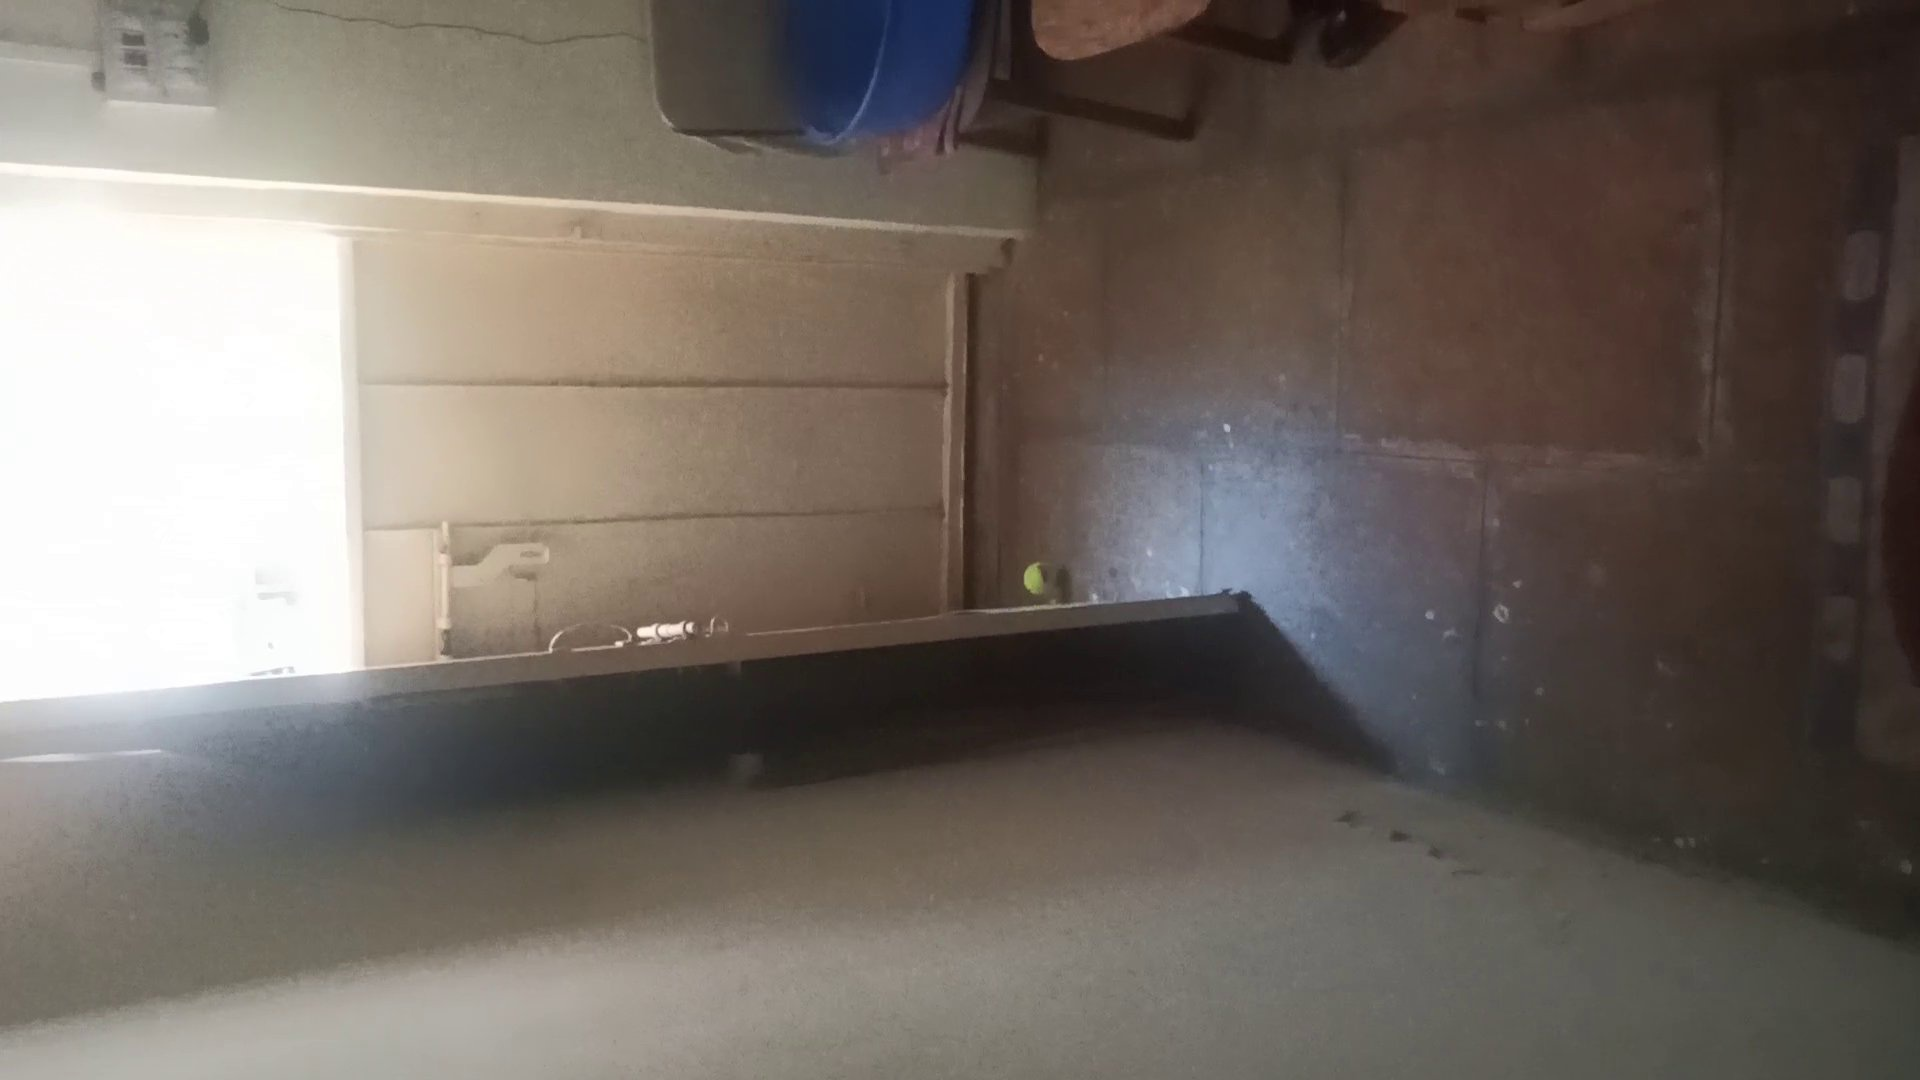Tennis-Ball: (1023, 560, 1059, 595)
